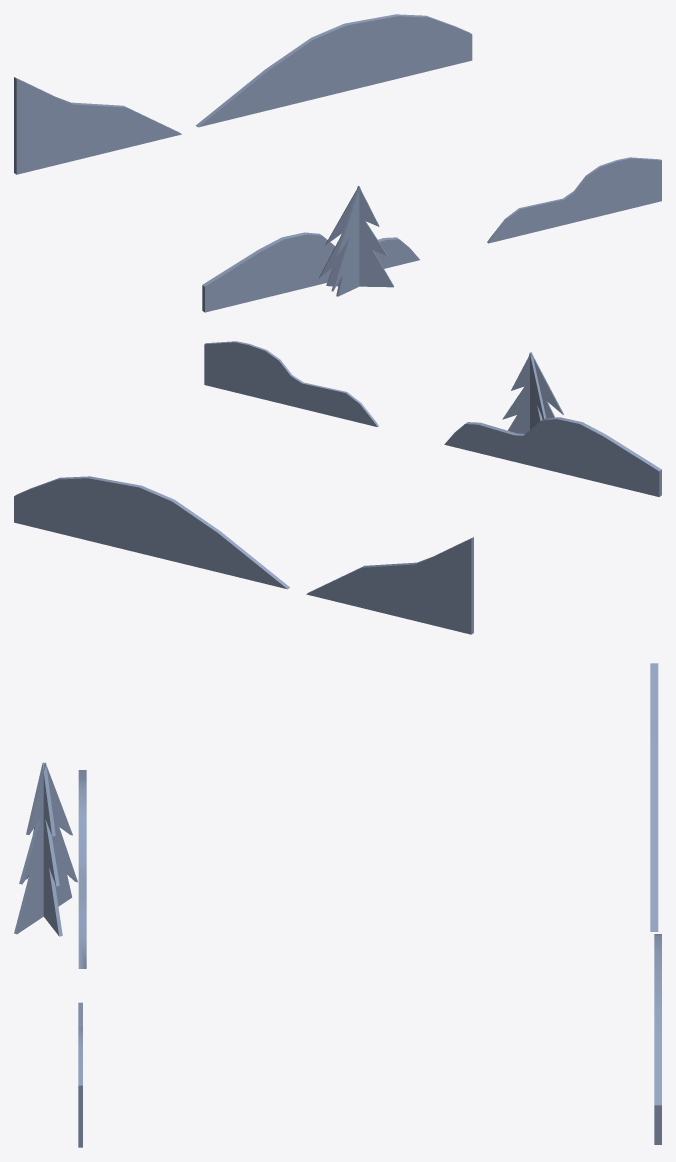
The model's file is frame_0100.glb.
3 views of the same model, one above another, from view 1: azimuth 30°, elevation 25°; view 2: azimuth 150°, elevation 25°; view 3: azimuth 270°, elevation 25° (orthographic). The views are drawn at different scales.
Parts seen in each view (by area): view 1: export_trees_001.002; view 2: export_trees_001.002; view 3: export_trees_001.002.
Boxes of the visible parts, x1,y1,x2,y2 form: export_trees_001.002: [14, 14, 661, 312]; export_trees_001.002: [14, 341, 661, 634]; export_trees_001.002: [14, 663, 661, 1147].
Bounding box in the file's own units: 0.4327 × 0.0905 × 0.35.
